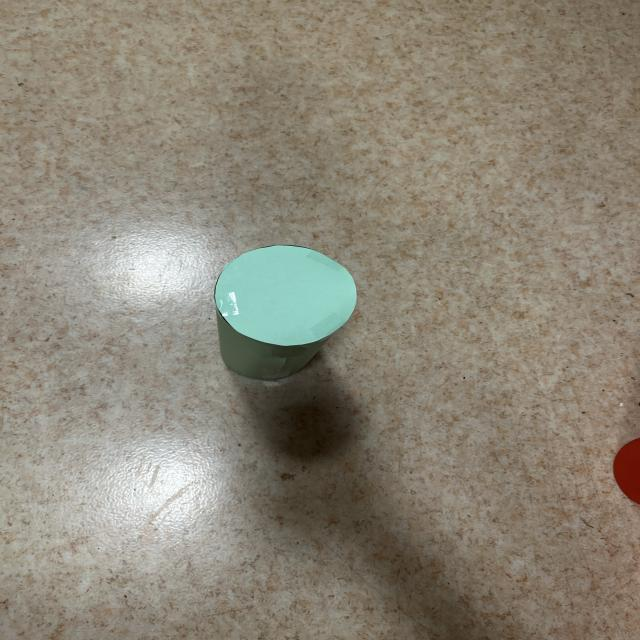meta: (214, 245, 356, 381)
